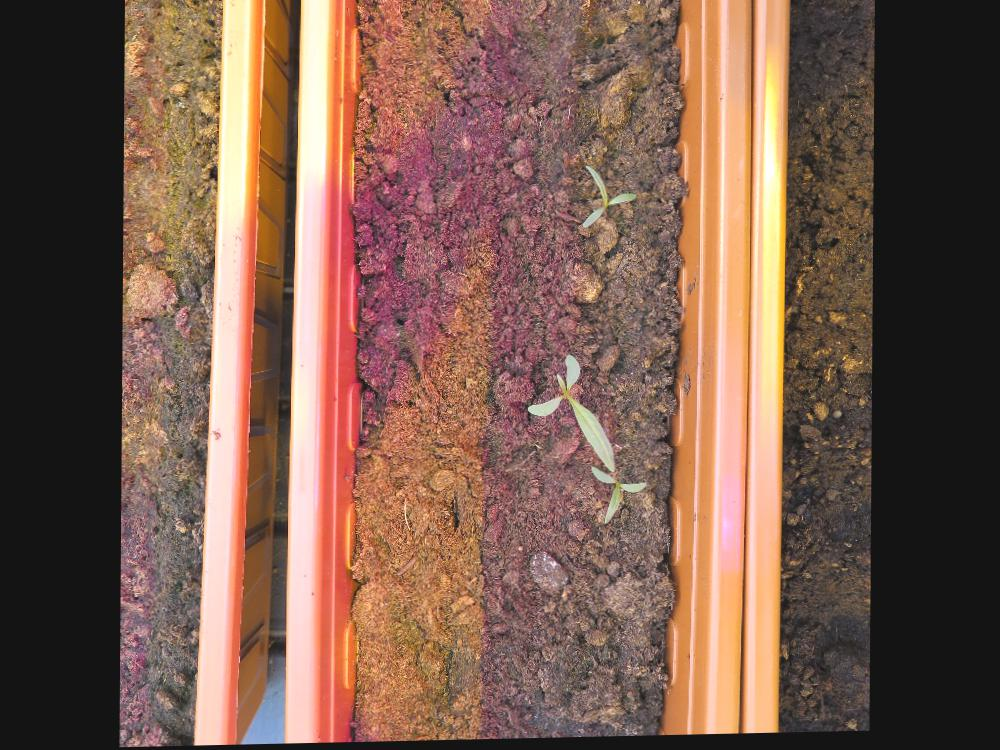weed: (581, 165, 639, 233)
